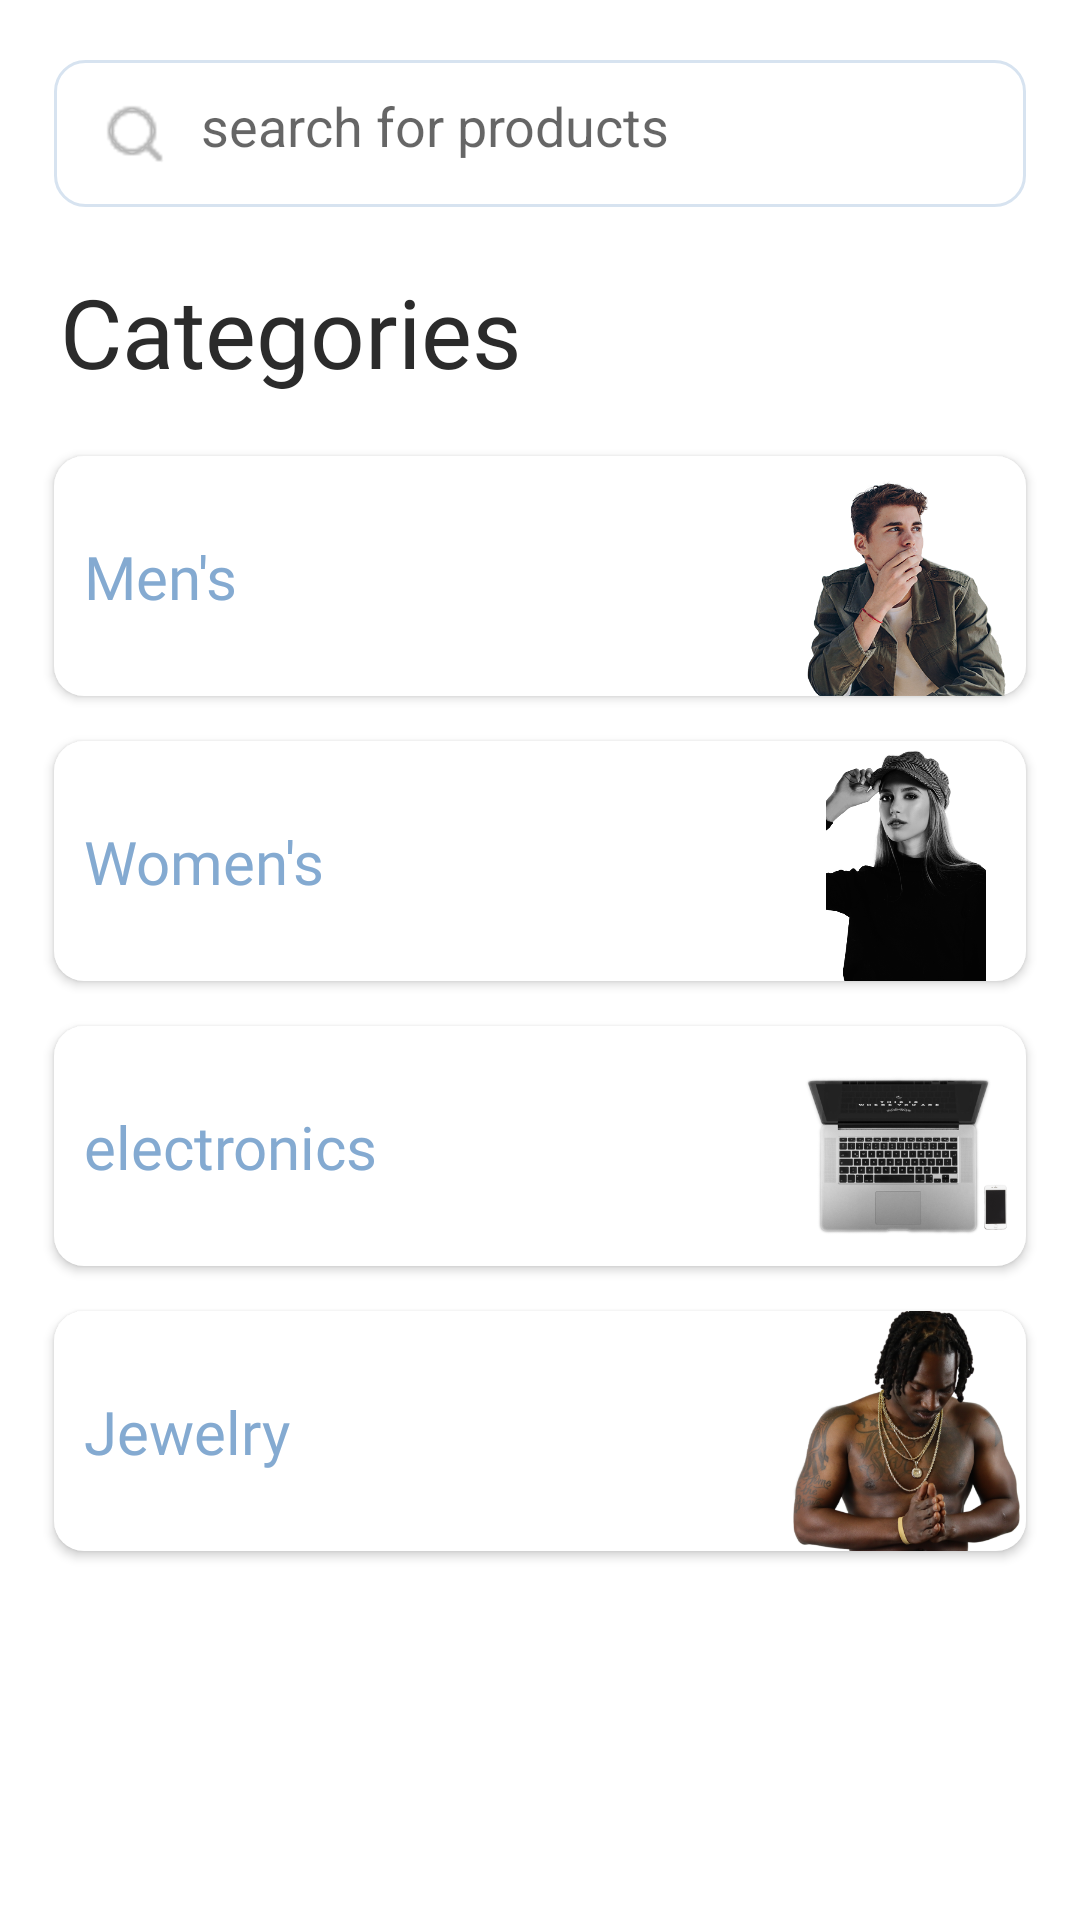

Screen size 1080×1920. Icon name, then its center in pixels as (x=x, y=y):
electronics: (x=917, y=1140)
jewelry: (x=909, y=1431)
men: (x=916, y=583)
women: (x=926, y=866)
